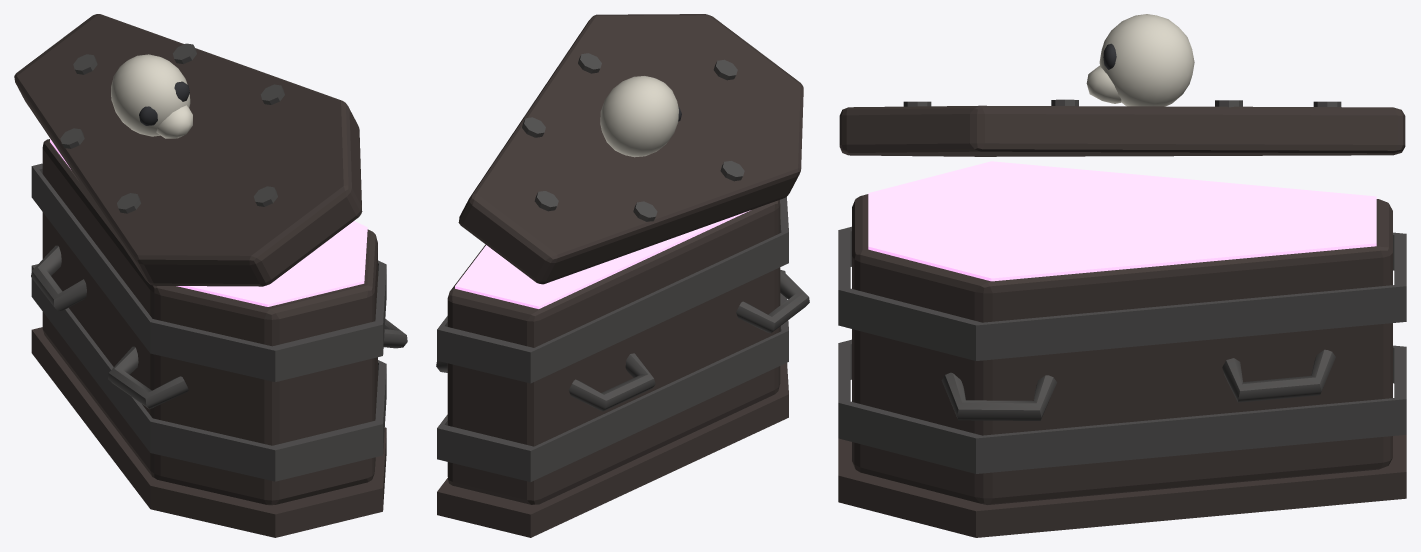
Rendered from haunt.fbx.
3 renders of one model, left to right at view 1: azimuth 30°, elevation 25°; view 2: azimuth 150°, elevation 25°; view 3: azimuth 270°, elevation 25°, orthographic. The views are drawn at different scales.
Parts seen in each view (by area): view 1: ebony_1, iron_1, glow_soft_1, bone_1, dark_1; view 2: ebony_1, iron_1, glow_soft_1, bone_1; view 3: ebony_1, iron_1, glow_soft_1, bone_1.
Part boxes in pixels (box(x1,y1,x2,y2)): ebony_1: box(14, 14, 386, 537); iron_1: box(31, 43, 407, 481); glow_soft_1: box(50, 139, 367, 306); bone_1: box(111, 54, 192, 138); dark_1: box(139, 81, 189, 125); ebony_1: box(437, 14, 803, 537); iron_1: box(436, 53, 809, 481); glow_soft_1: box(455, 210, 750, 308); bone_1: box(600, 76, 678, 157); ebony_1: box(838, 105, 1406, 537); iron_1: box(838, 99, 1406, 473); glow_soft_1: box(868, 161, 1376, 281); bone_1: box(1086, 14, 1194, 106).
Size of the model in its own units: 0.4222 by 0.5775 by 0.693.
